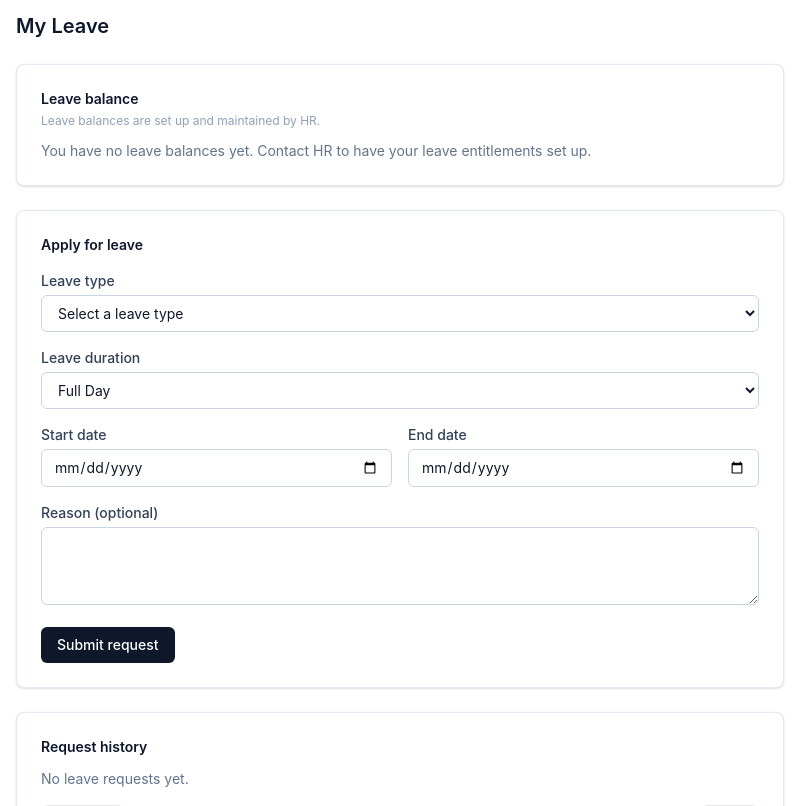
Test: LeaveDashboardPage › prevents submission for a weekend-only date range
This screenshot has width=801, height=806.
Select "Annual Leave" in the dropdown labelled "Leave type" at coordinates (400, 314), box [41,295,759,332]
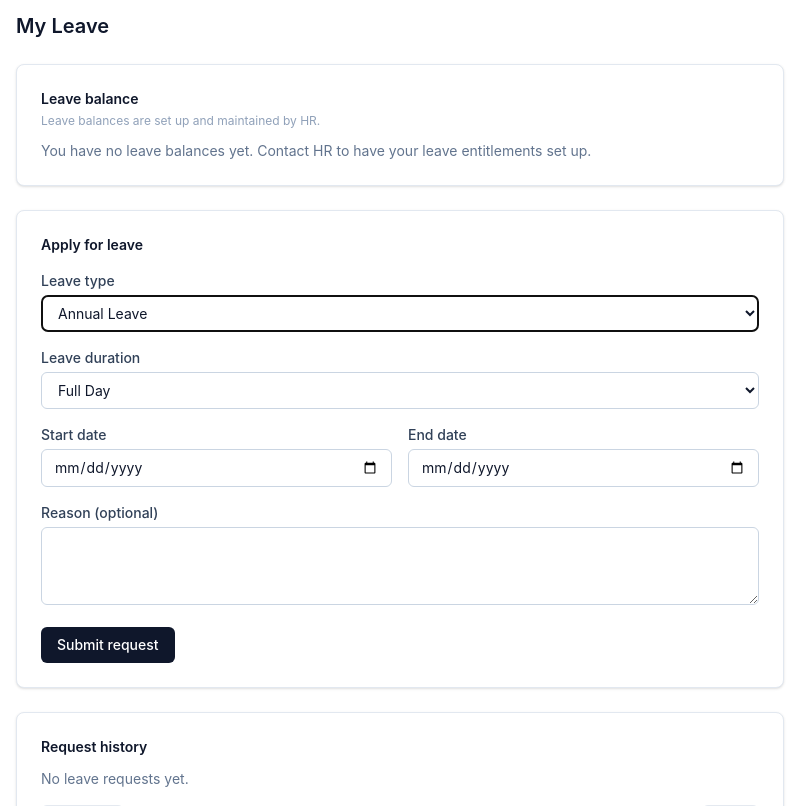
Type "2026-09-12" into the date field labelled "Start date" at coordinates (216, 468), box [41,449,392,487]
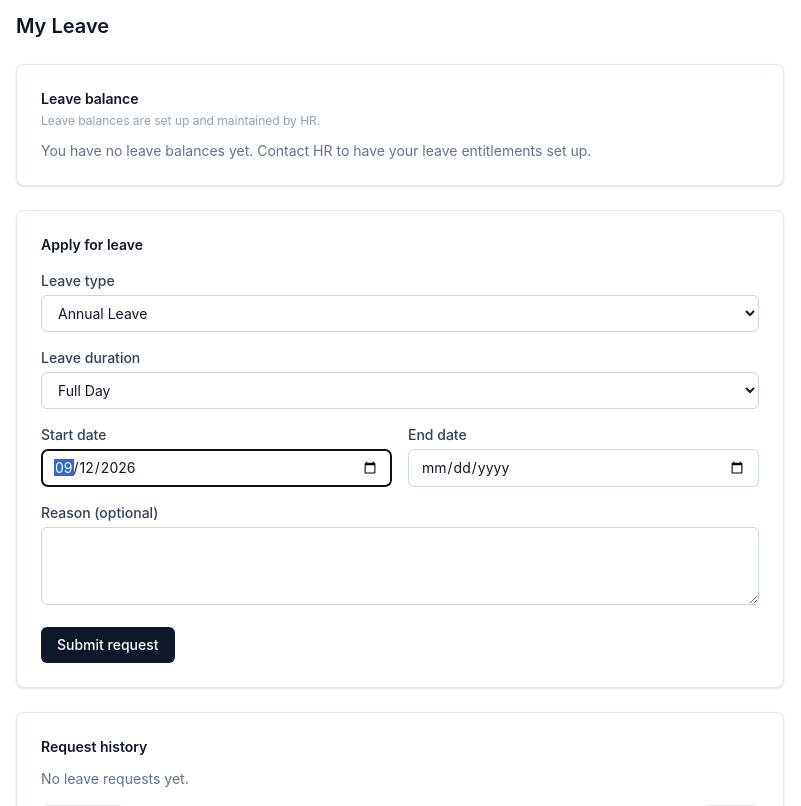
Type "2026-09-13" into the date field labelled "End date" at coordinates (584, 468), box [408,449,759,487]
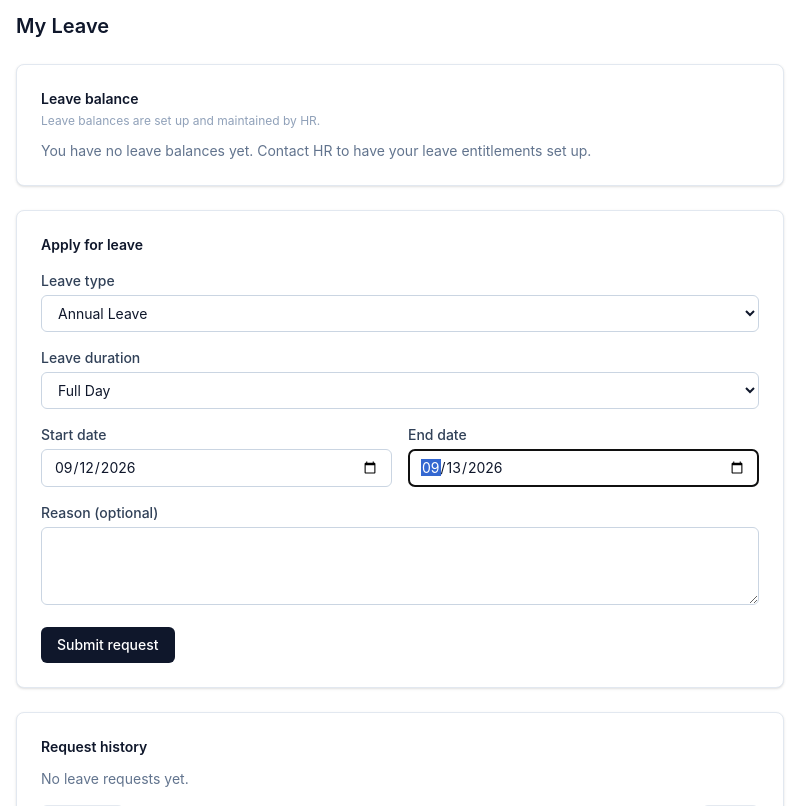
Click the button "Submit request" at coordinates (108, 645), box [41,627,175,663]
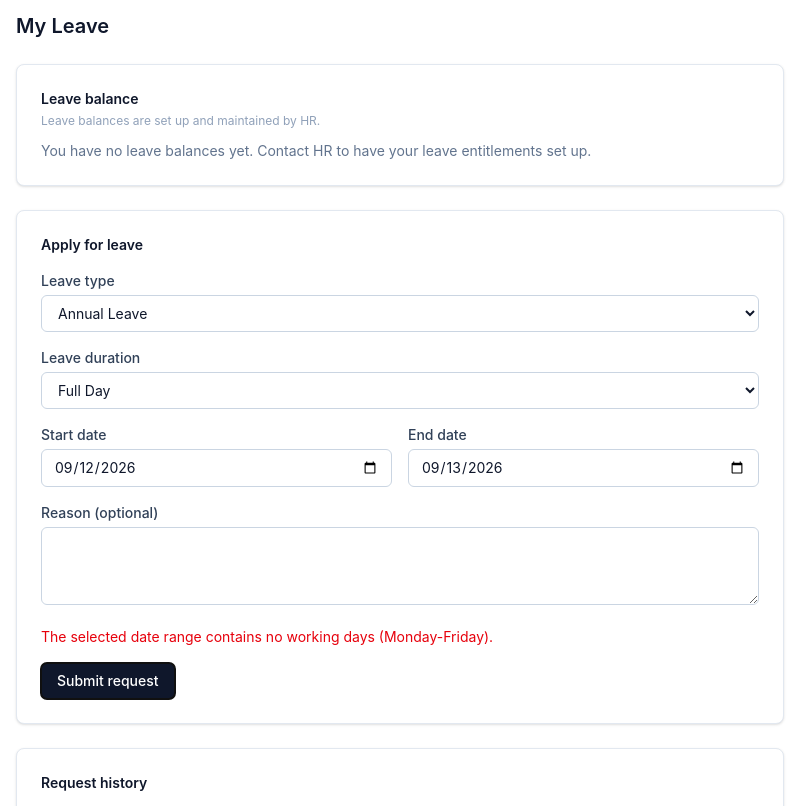
Check: the message shows "working day", box [41,628,493,645]
